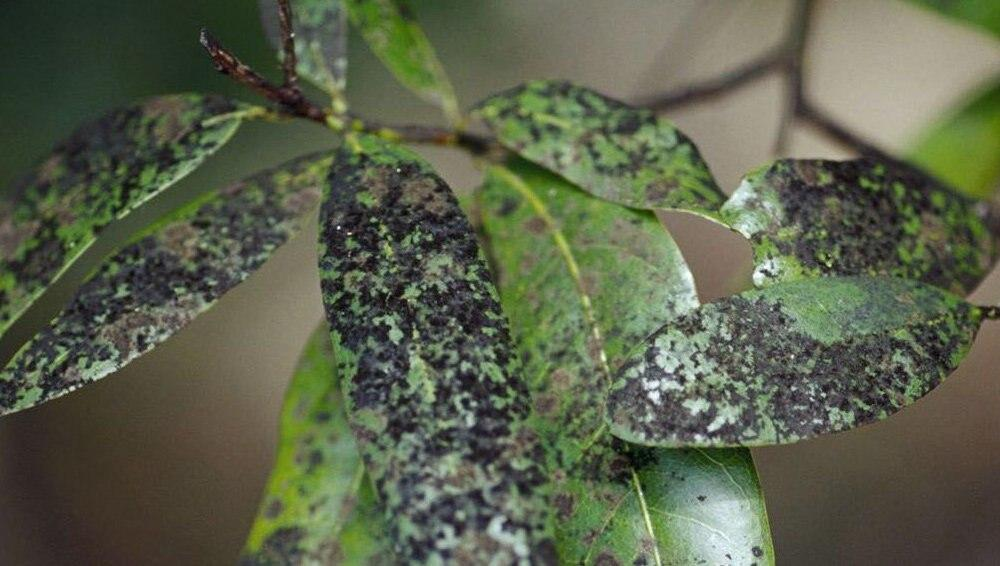soot dew: (321, 151, 556, 565), (0, 146, 338, 413), (602, 297, 995, 449), (2, 96, 237, 294), (469, 81, 722, 218), (767, 155, 996, 298), (575, 438, 663, 490), (238, 528, 307, 565), (554, 490, 578, 517)
